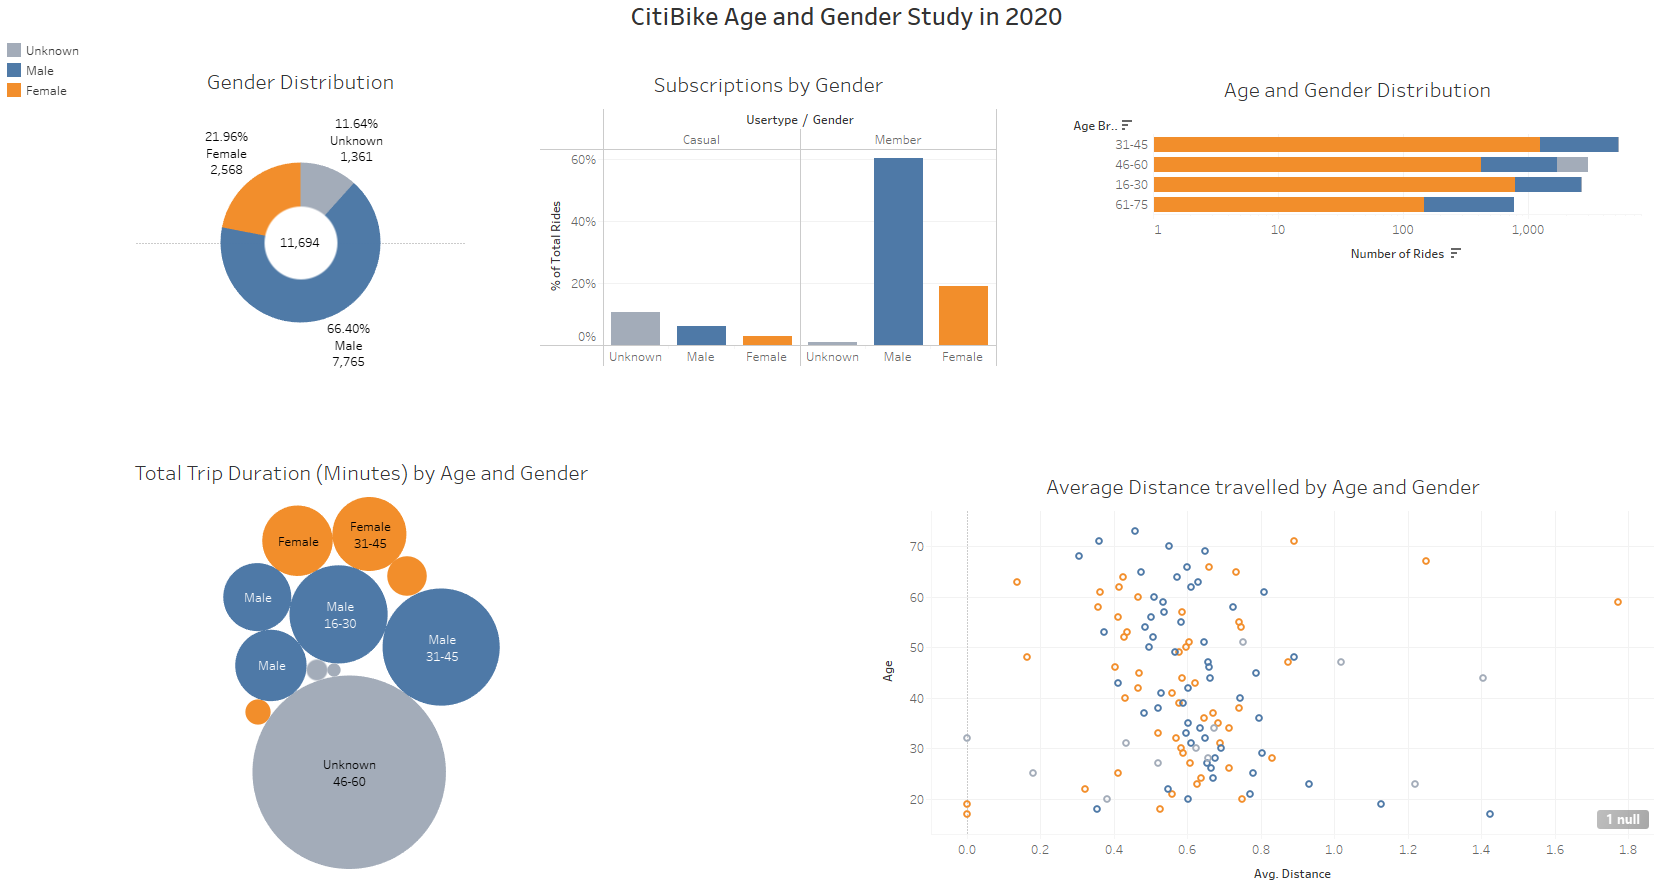

The page's visual inventory and layout, read from the dashboard file:
{"tool":"tableau","page":{"name":"Dashboard - Age & Gender Study","canvas":[1000,1000],"units":"permille","ordinal":0},"visuals":[{"type":"title","box":[4.2,7.7,991.7,47.9]},{"type":"legend","title":"Gender Distribution","param":"[federated.09impmv1rgf8k6130ey5n1y0aig7].[none:gender:ok]","box":[4.2,55.6,290.1,454.8]},{"type":"worksheet","title":"Subscriptions by Gender","mark":"Automatic","cols":["usertype","gender"],"box":[294.2,55.6,267.7,454.8]},{"type":"worksheet","title":"Age and Gender Distribution","mark":"Automatic","rows":["Calculation_616430200737153024"],"cols":["Calculation_1757248280959762432"],"box":[561.9,55.6,433.9,454.8]},{"type":"worksheet","title":"Gender Distribution","mark":"Automatic","rows":["Calculation_1757248281006522373","Calculation_1757248281006522373"],"box":[79.1,72,192.5,349.6]},{"type":"worksheet","title":"Total Trip Duration (Minutes) by Age and Gender","mark":"Area","rows":["Calculation_1757248281003024388"],"cols":["Calculation_1757248280960151554"],"box":[4.2,510.4,557.8,481.9]},{"type":"worksheet","title":"Average Distance travelled by Age and Gender","mark":"Area","rows":["Calculation_1757248280960057345"],"cols":["Calculation_1757248280960151554"],"box":[561.9,510.4,433.9,481.9]}]}

Visuals, with their boxes on the dashboard's canvas, which has no fixed pixel size, in thousandths of its width and height (x1, y1, x2, y2). These are canvas units, not pixel positions in the 1656x891 screenshot, which may show the page scaled, cropped or inside an application window:
title: bbox=[4, 8, 996, 56]
"Gender Distribution" legend: bbox=[4, 56, 294, 510]
"Subscriptions by Gender" worksheet: bbox=[294, 56, 562, 510]
"Age and Gender Distribution" worksheet: bbox=[562, 56, 996, 510]
"Gender Distribution" worksheet: bbox=[79, 72, 272, 422]
"Total Trip Duration (Minutes) by Age and Gender" worksheet (Area marks): bbox=[4, 510, 562, 992]
"Average Distance travelled by Age and Gender" worksheet (Area marks): bbox=[562, 510, 996, 992]
